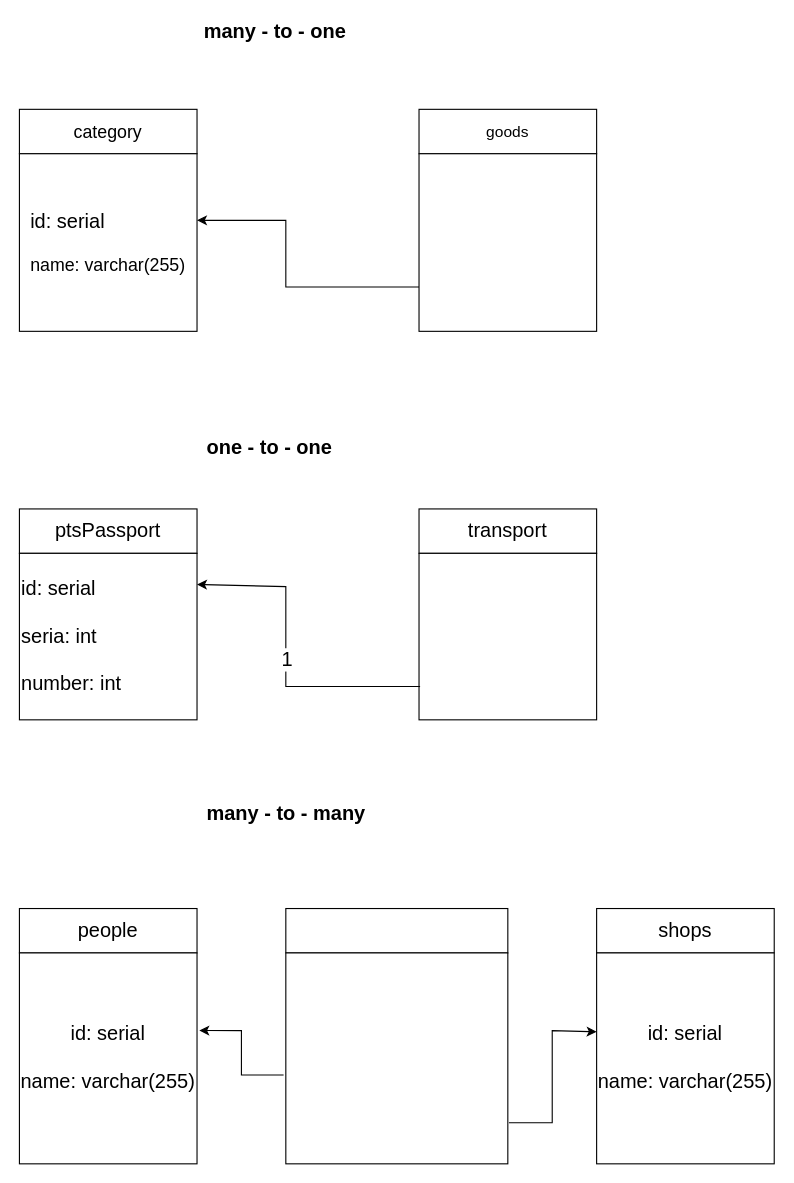
Some shapes in this 794 by 1183 pixel diagram are drawn without their labels. Each missing label, with the box of its shape:
id: serial name: varchar(255) category_id: int: (418, 153, 597, 331)
id: serial name: varchar(255) ptsPassport_id: int: (418, 552, 597, 720)
id: serial people_id: int shops_id: int: (285, 952, 508, 1164)
people_shops: (285, 907, 508, 953)
